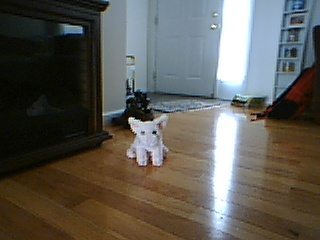piggy: (123, 113, 173, 168)
